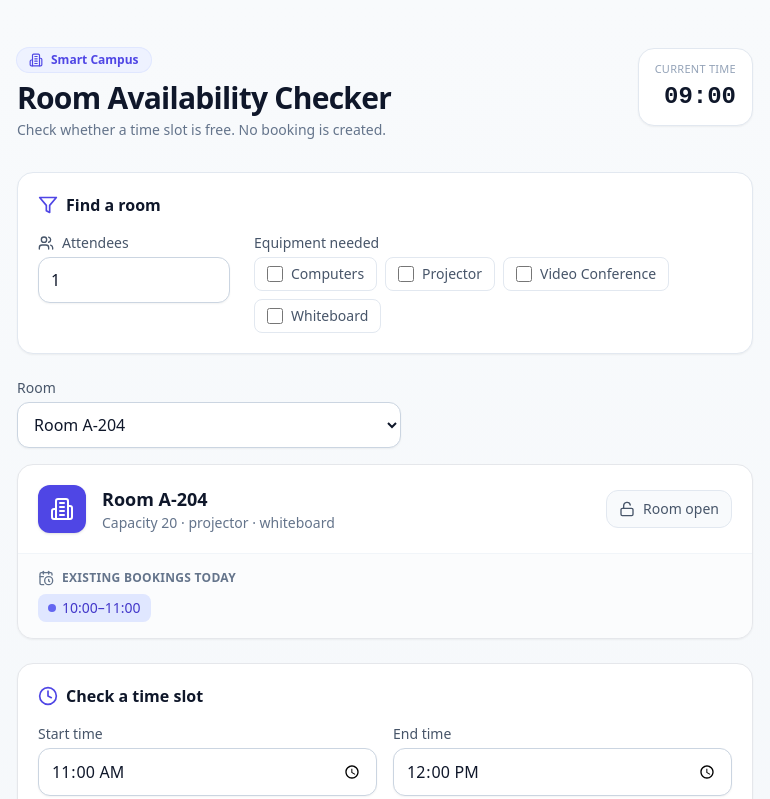
Scenario: App: room selection › refreshes the availability result when the selected room changes
Select "Computer Lab D-112" in the dropdown at (209, 425), box top-left (17, 402), bottom-right (401, 448)
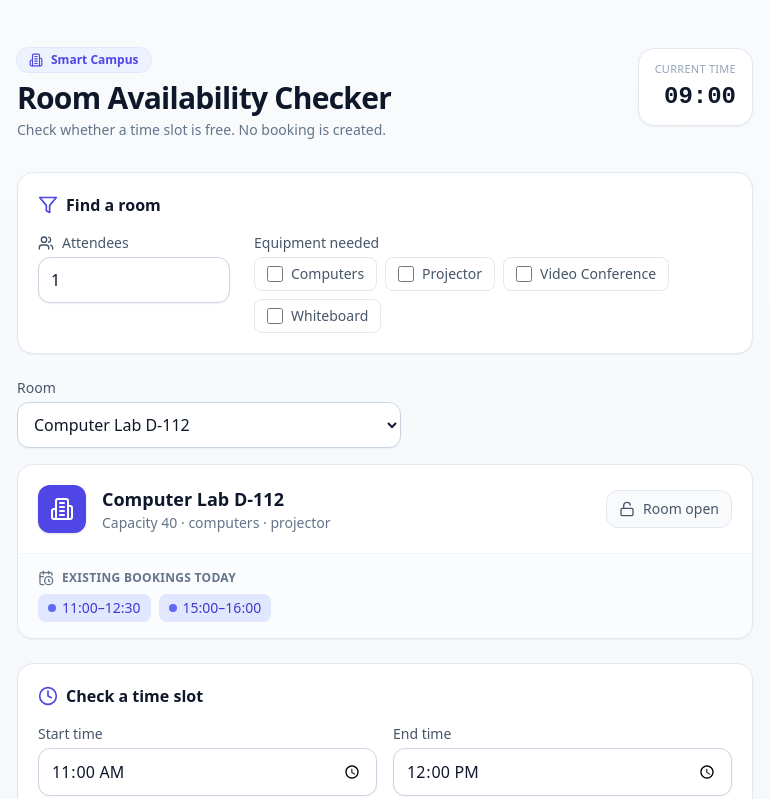
Select "Lecture Hall C-310" in the dropdown at (209, 425), box top-left (17, 402), bottom-right (401, 448)
(page scrolled)
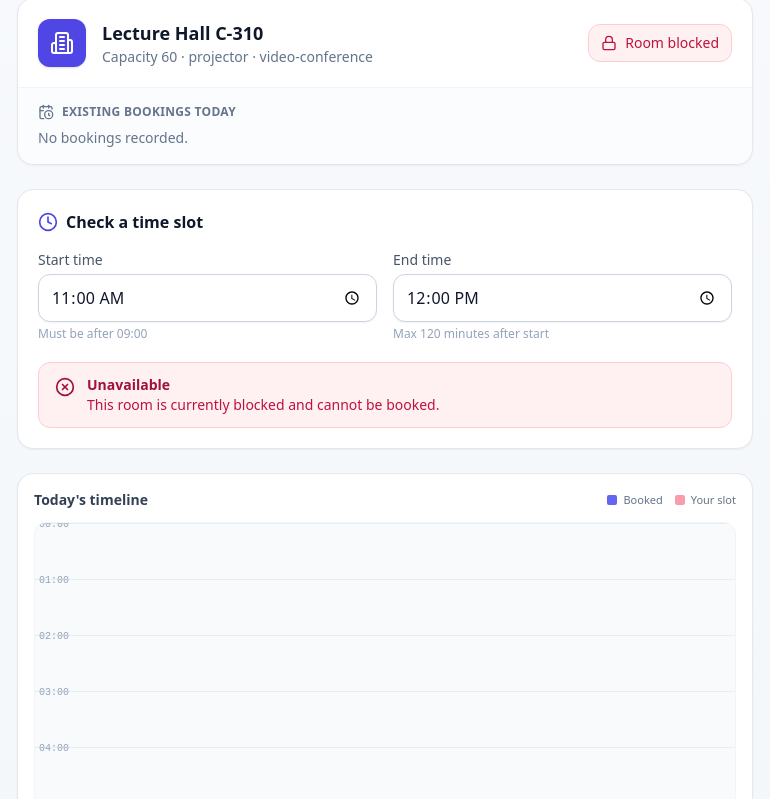
Result: the text "This room is currently blocked and cannot be booked." is shown at top-left (87, 395), bottom-right (439, 415)
